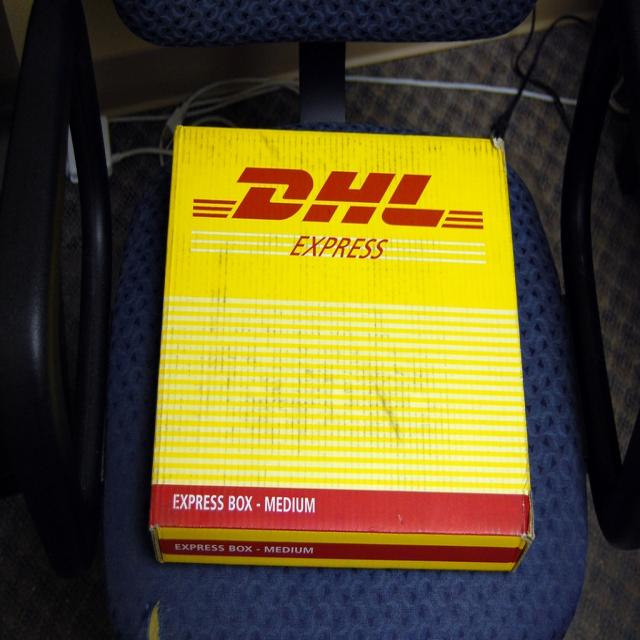dhl: (191, 156, 489, 237)
